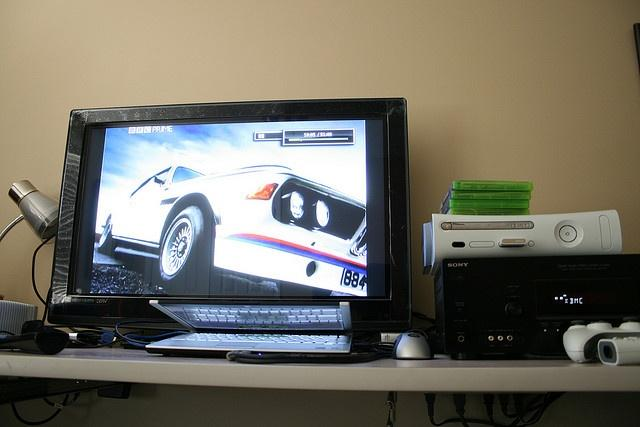AIO PC-Monitor-TV: (45, 97, 411, 336)
